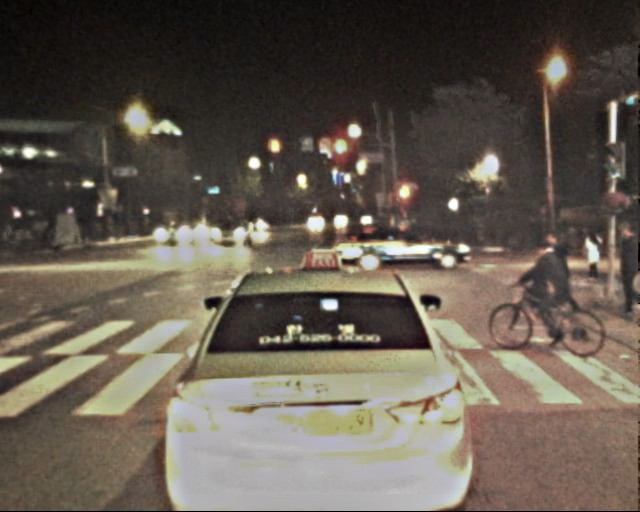person: (534, 239, 573, 333), (609, 220, 640, 319), (546, 227, 576, 301), (580, 228, 606, 292), (409, 215, 436, 248)
